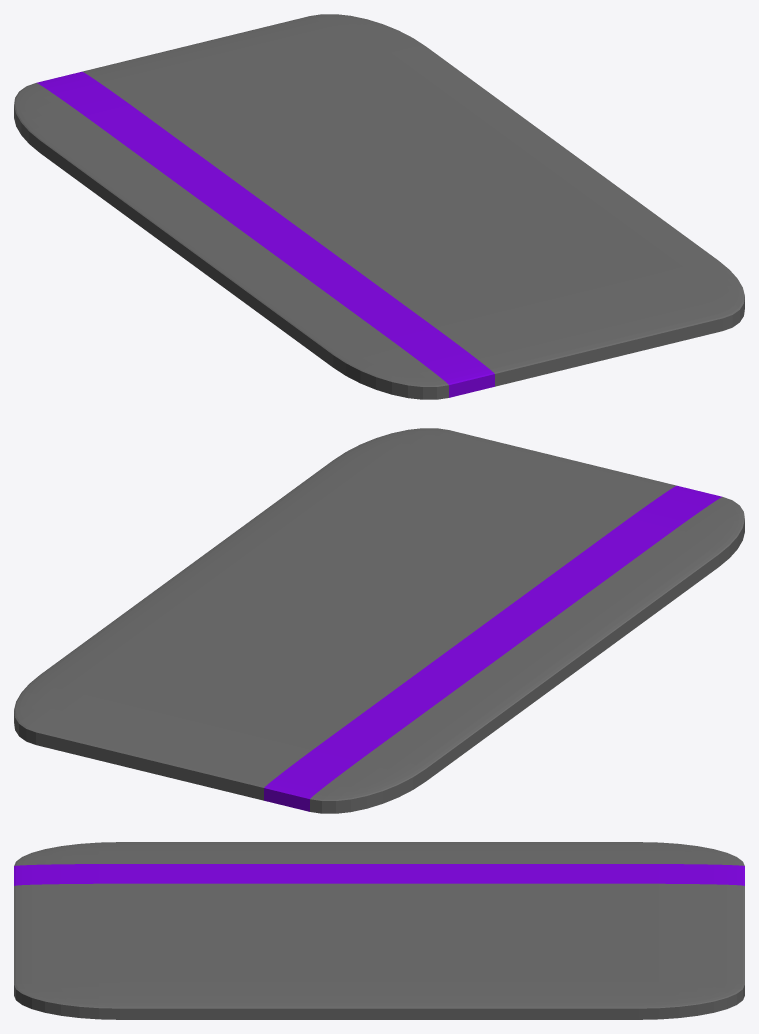
Rendered from PurpleKeyCard.glb.
3 views of the same model, one above another, from view 1: azimuth 30°, elevation 25°; view 2: azimuth 150°, elevation 25°; view 3: azimuth 270°, elevation 25° (orthographic). The views are drawn at different scales.
Visible parts, largest first — view 1: Cube; view 2: Cube; view 3: Cube.
Part boxes in pixels (bbox=[...]): Cube: bbox=[14, 14, 744, 399]; Cube: bbox=[14, 428, 744, 813]; Cube: bbox=[14, 842, 744, 1019].
Bounding box in the file's own units: 0.0525 × 0.00233 × 0.0974.
